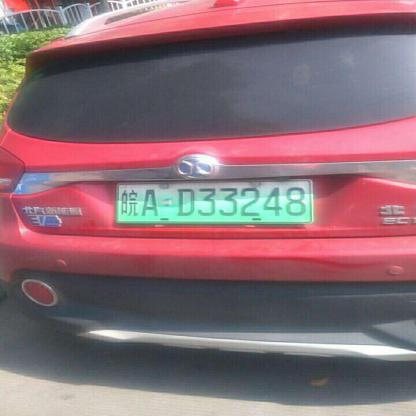lp: (117, 179, 309, 221)
